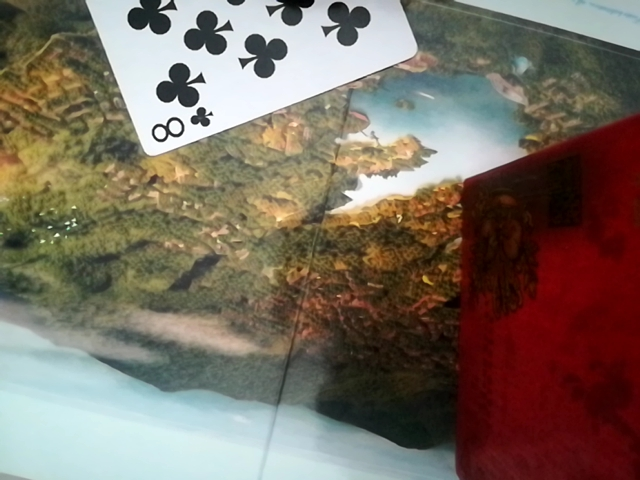mh 8: (65, 0, 424, 155)
